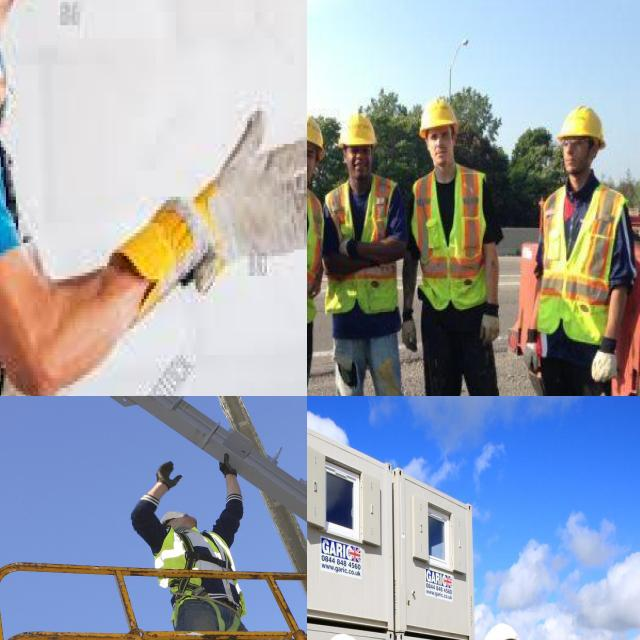face_nomask: (560, 134, 592, 180), (422, 124, 458, 164), (343, 143, 372, 178), (307, 137, 315, 188)
hand_glove: (138, 109, 307, 297), (592, 333, 620, 392), (150, 460, 189, 495), (521, 326, 545, 381), (482, 300, 502, 350), (398, 312, 420, 353), (213, 449, 239, 479)
head_helmet: (553, 106, 608, 141), (419, 98, 458, 132), (340, 115, 380, 148), (474, 621, 525, 640), (307, 113, 324, 147), (158, 508, 196, 523)
person: (520, 97, 639, 396), (133, 456, 296, 640), (410, 94, 509, 396), (331, 104, 413, 396)
vest: (542, 178, 617, 346), (330, 176, 403, 316), (417, 167, 489, 308), (156, 526, 234, 596), (307, 184, 326, 325)
